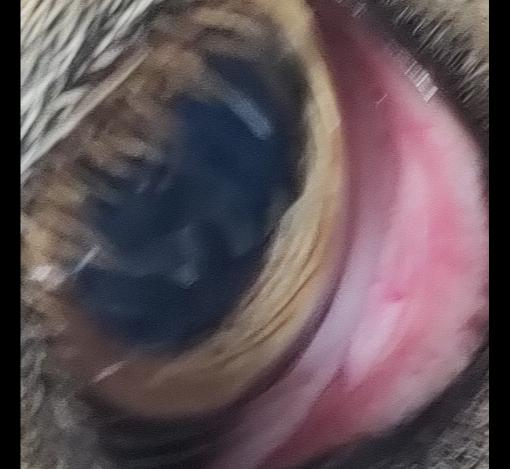eye_membrane: (207, 0, 490, 469)
